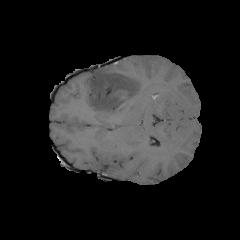glioma: (85, 66, 143, 129)
